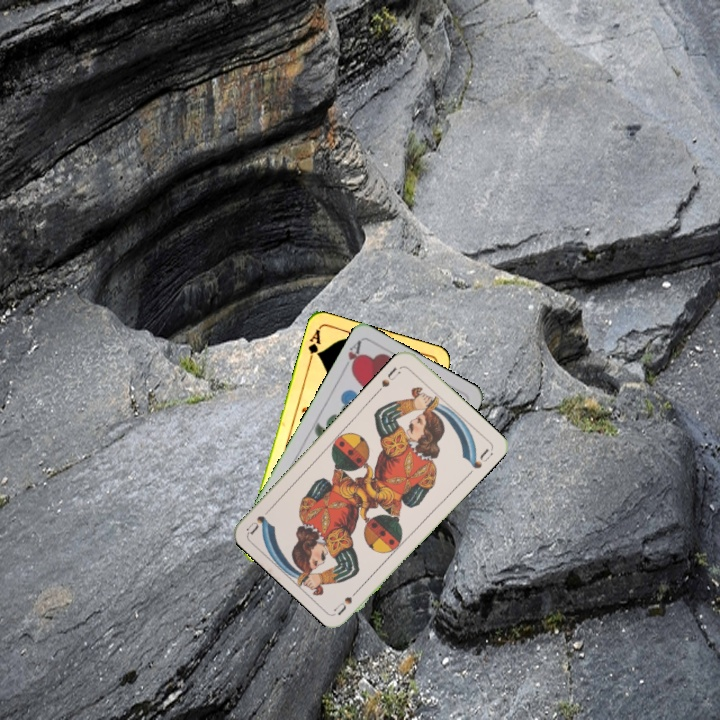GA: (304, 325, 323, 365)
HA: (338, 336, 364, 375)
SU: (330, 582, 364, 617), (373, 363, 403, 395)
